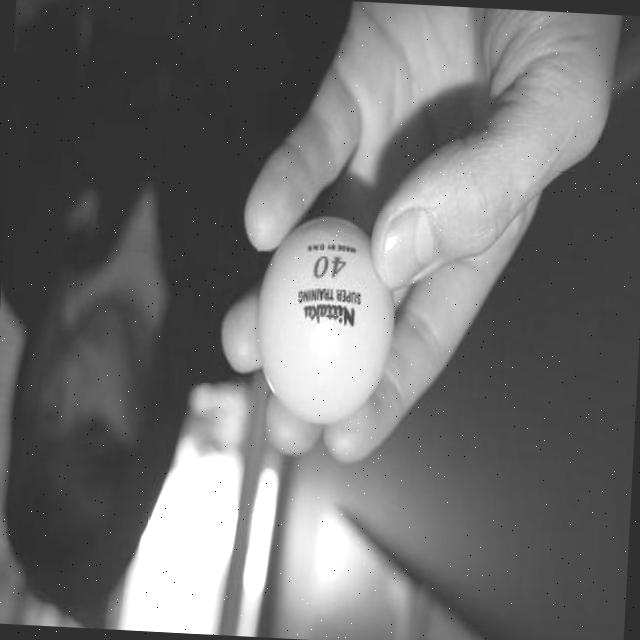ping-pong-ball: (249, 214, 400, 435)
